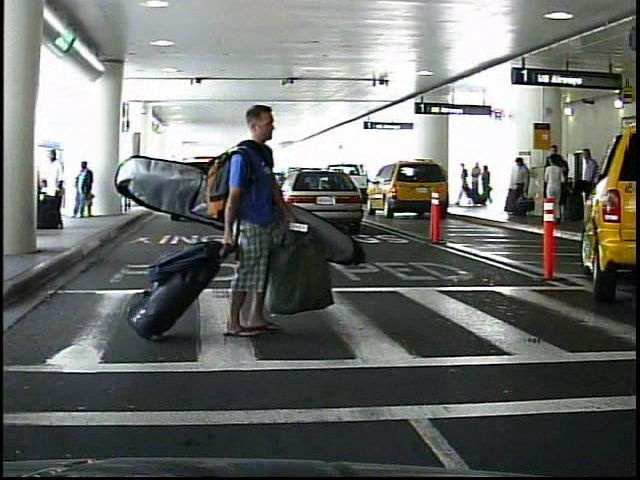person: (221, 97, 313, 358), (34, 146, 68, 231), (576, 146, 600, 222), (72, 158, 99, 225), (544, 144, 567, 221), (510, 158, 533, 221), (545, 155, 567, 213), (458, 160, 472, 208), (472, 161, 484, 208), (480, 162, 491, 206)
